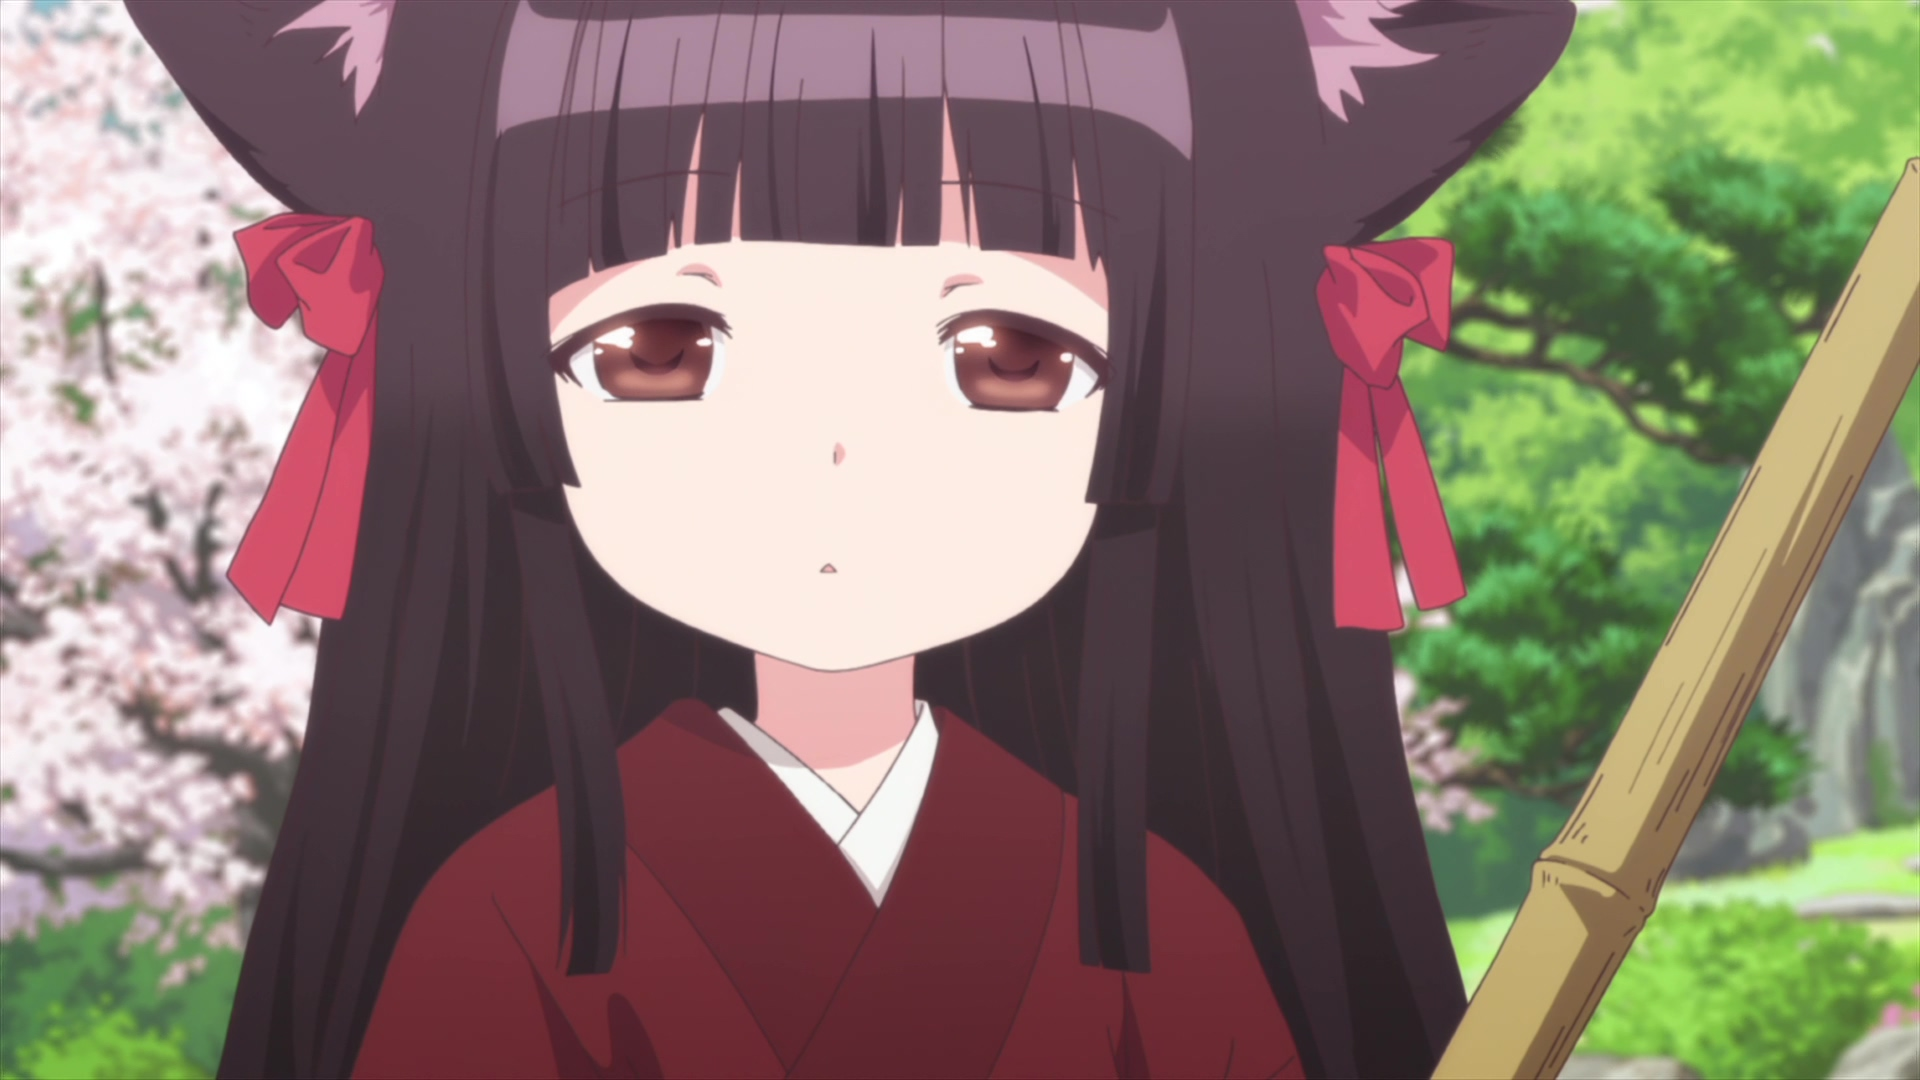樱: (117, 1, 1578, 1080)
